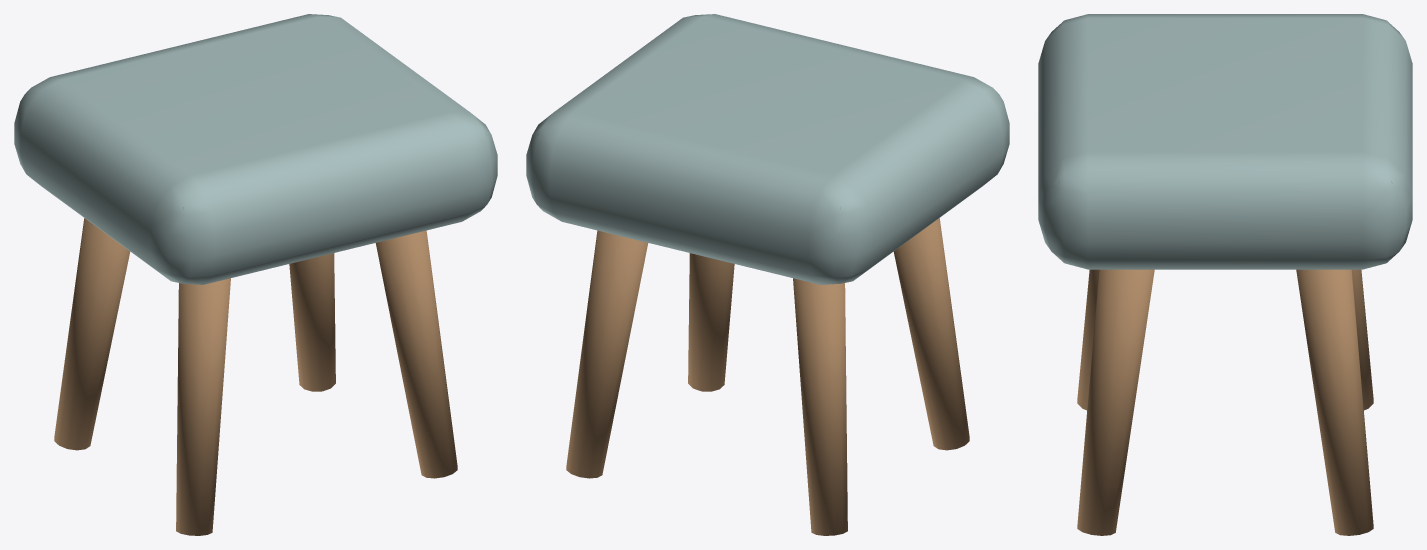
The model's file is atelier-dressing-stool.glb.
3 renders of one model, left to right at view 1: azimuth 30°, elevation 25°; view 2: azimuth 150°, elevation 25°; view 3: azimuth 270°, elevation 25°, orthographic. The views are drawn at different scales.
Parts seen in each view (by area): view 1: fabric.042, legs.046; view 2: fabric.042, legs.046; view 3: fabric.042, legs.046.
Part boxes in pixels (x1,y1,x2,y2): fabric.042: [14, 14, 497, 284]; legs.046: [54, 218, 457, 535]; fabric.042: [526, 14, 1009, 284]; legs.046: [566, 218, 969, 535]; fabric.042: [1038, 14, 1412, 269]; legs.046: [1077, 269, 1373, 535].
Bounding box in the file's own units: 0.5 × 0.5087 × 0.45.
